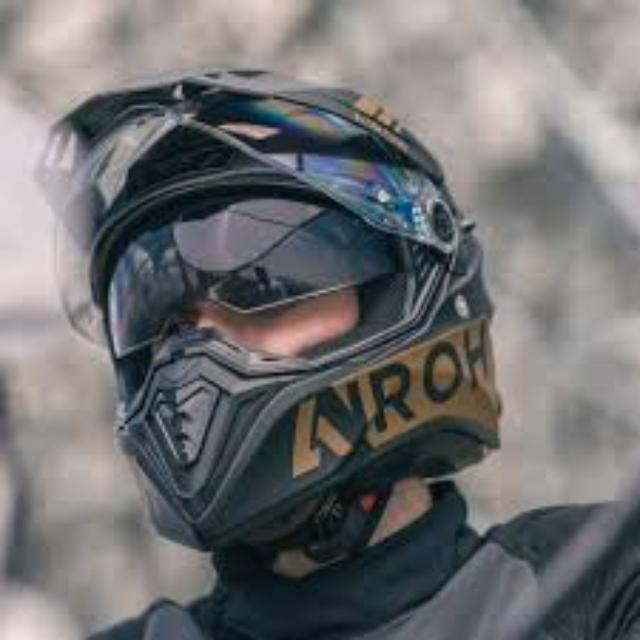motorcycle-helmets: (54, 71, 498, 549)
